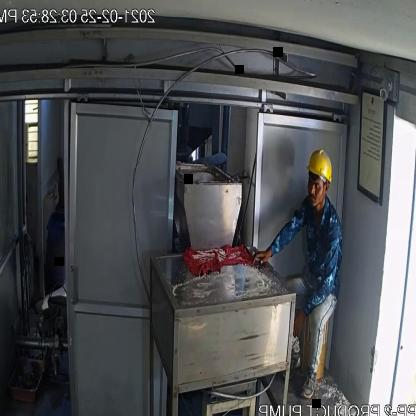helmet: (306, 140, 335, 188)
